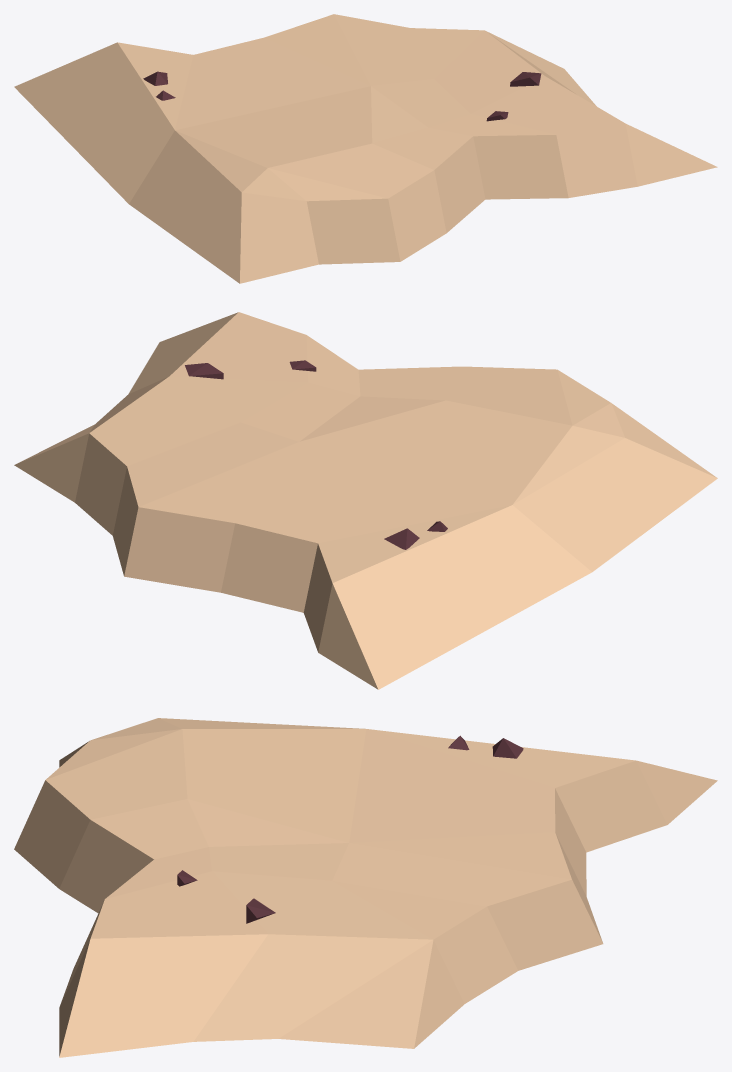
File: empire-road-corner-short-empire.glb
3 renders of one model, top to bottom at view 1: azimuth 30°, elevation 25°; view 2: azimuth 150°, elevation 25°; view 3: azimuth 270°, elevation 25°, orthographic. The views are drawn at different scales.
Parts seen in each view (by area): view 1: SM_Road_Corner_Short_Empire; view 2: SM_Road_Corner_Short_Empire; view 3: SM_Road_Corner_Short_Empire.
Boxes of the visible parts, box(x1,y1,x2,y2) form: SM_Road_Corner_Short_Empire: box(14, 14, 717, 283); SM_Road_Corner_Short_Empire: box(14, 312, 717, 689); SM_Road_Corner_Short_Empire: box(14, 718, 717, 1057).
Size of the model in its own units: 4.51 by 0.5742 by 4.49.
